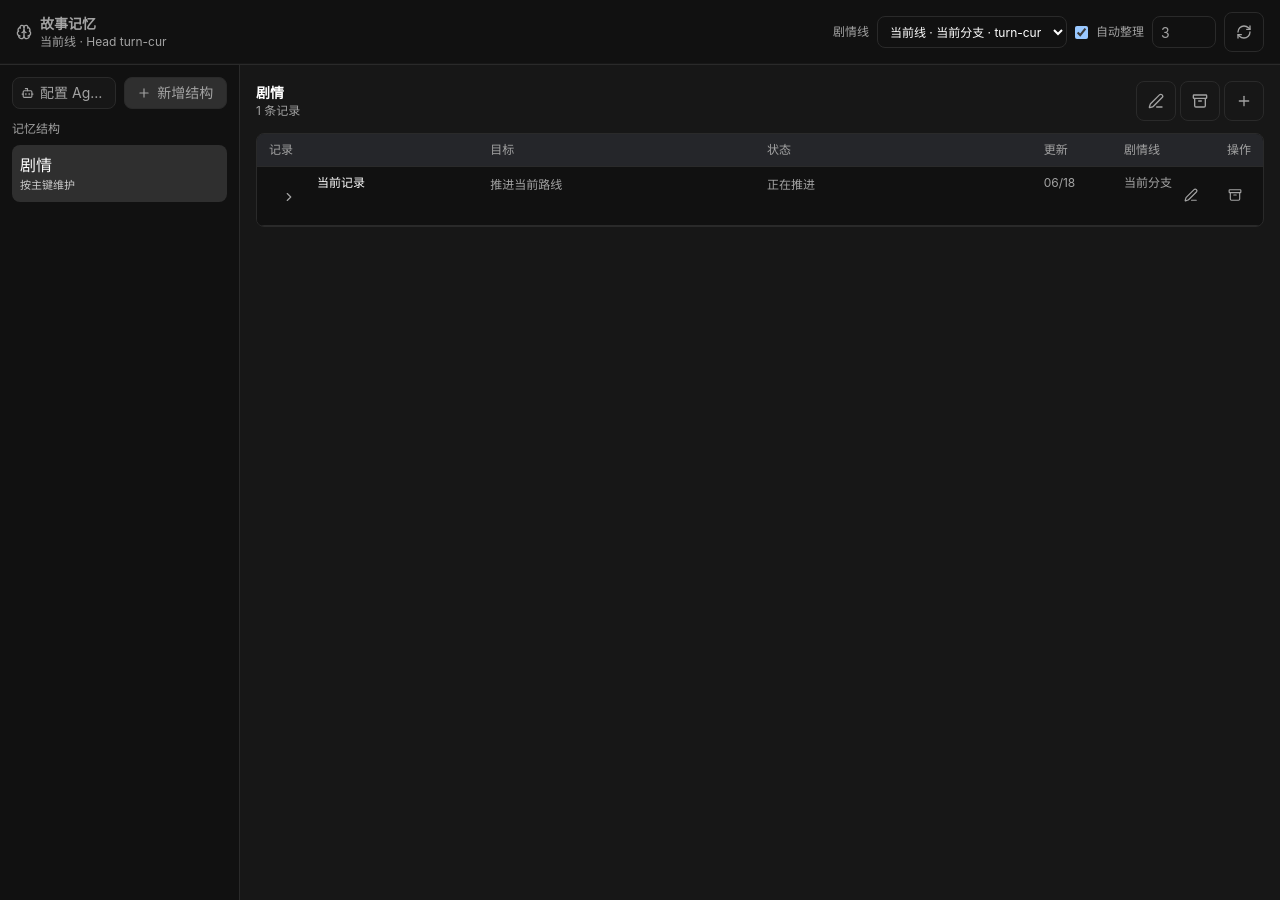
StoryMemoryView › loads the current branch first and can switch the memory branch in place
Expected: the button "配置 Agent" is shown, [12, 77, 116, 109]
Expected: the button "新增结构" is shown, [124, 77, 227, 109]
Select "支线 · turn-alt" in the dropdown labelled "剧情线" at {"x": 972, "y": 32}, box [877, 16, 1067, 48]
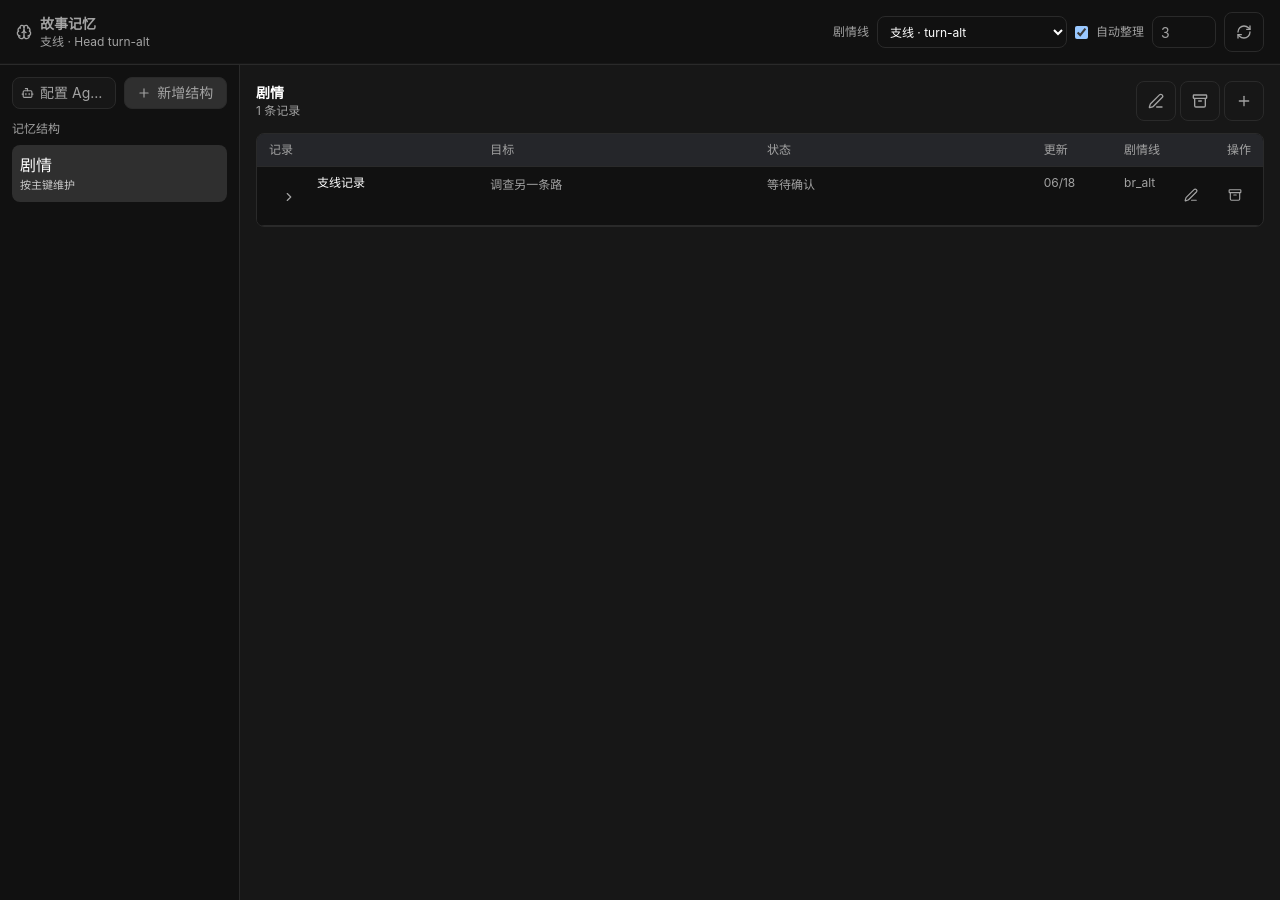
Expected: the text "支线记录" is shown, [317, 175, 365, 191]
Expected: the text "支线 · Head turn-alt" is shown, [40, 34, 150, 50]
Click the button named "展开全文" at {"x": 289, "y": 197}, box [269, 177, 309, 217]
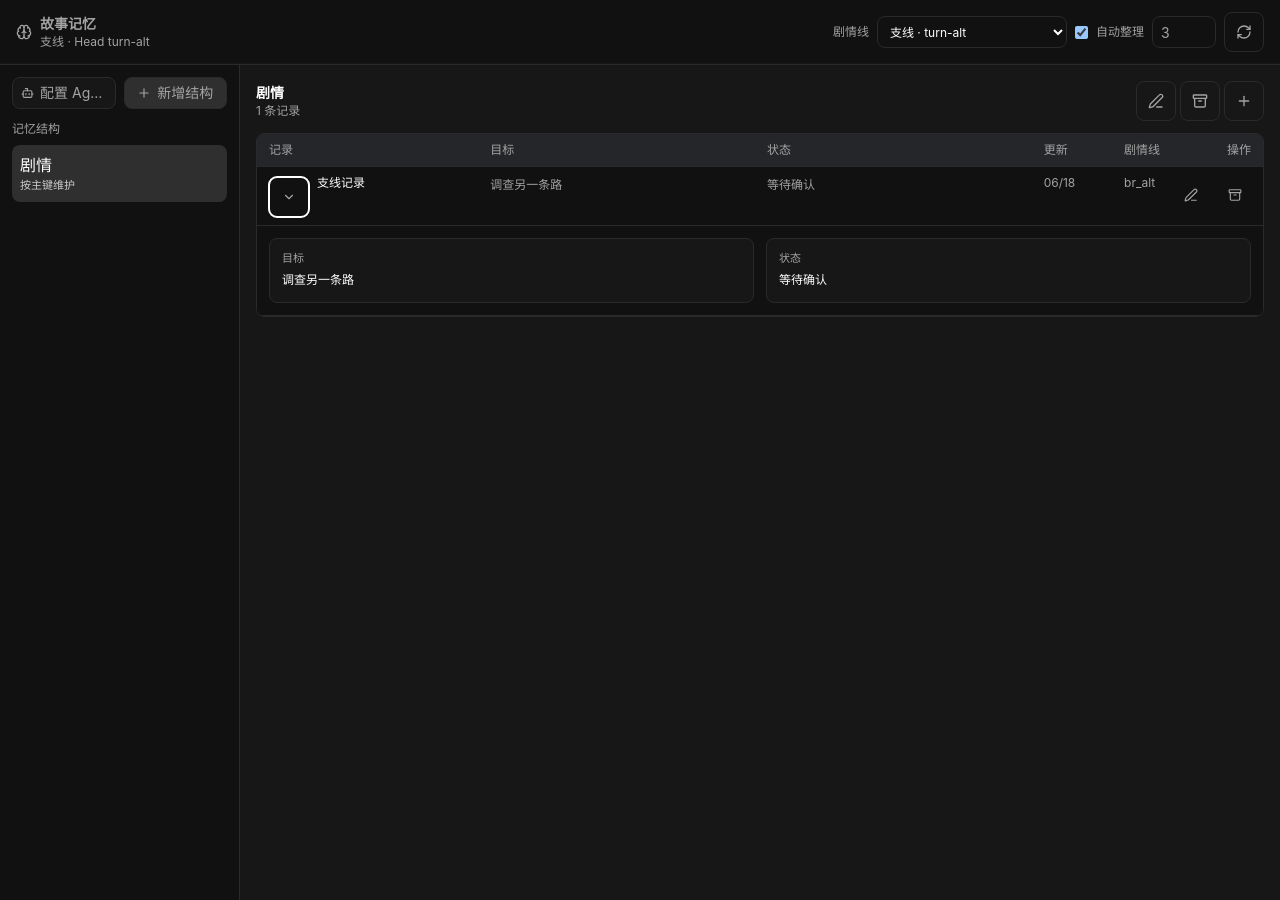
Expected: the button named "收起全文" is shown, [269, 177, 309, 217]
